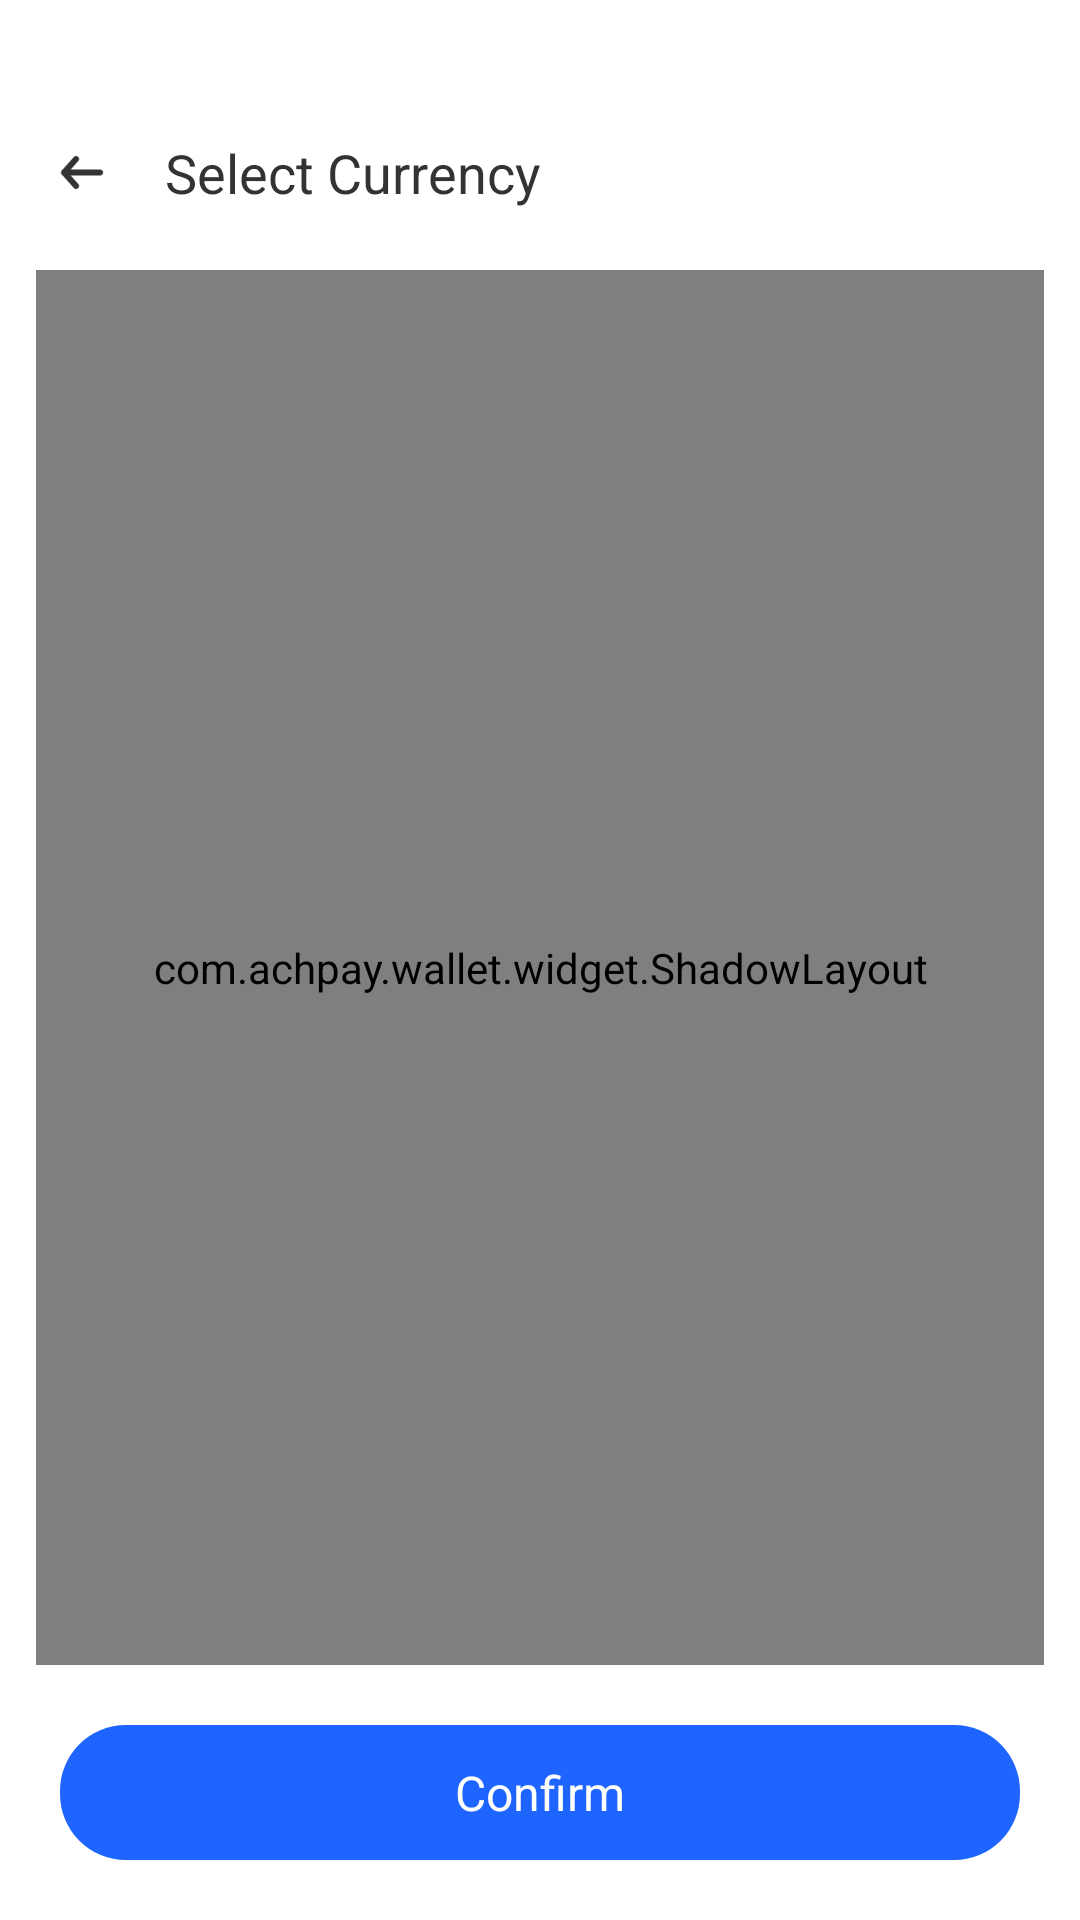

Icons on this 1080x1920 Android screen, each with its box as (x1, y1, x2, y2):
back: (60, 156, 104, 189)
